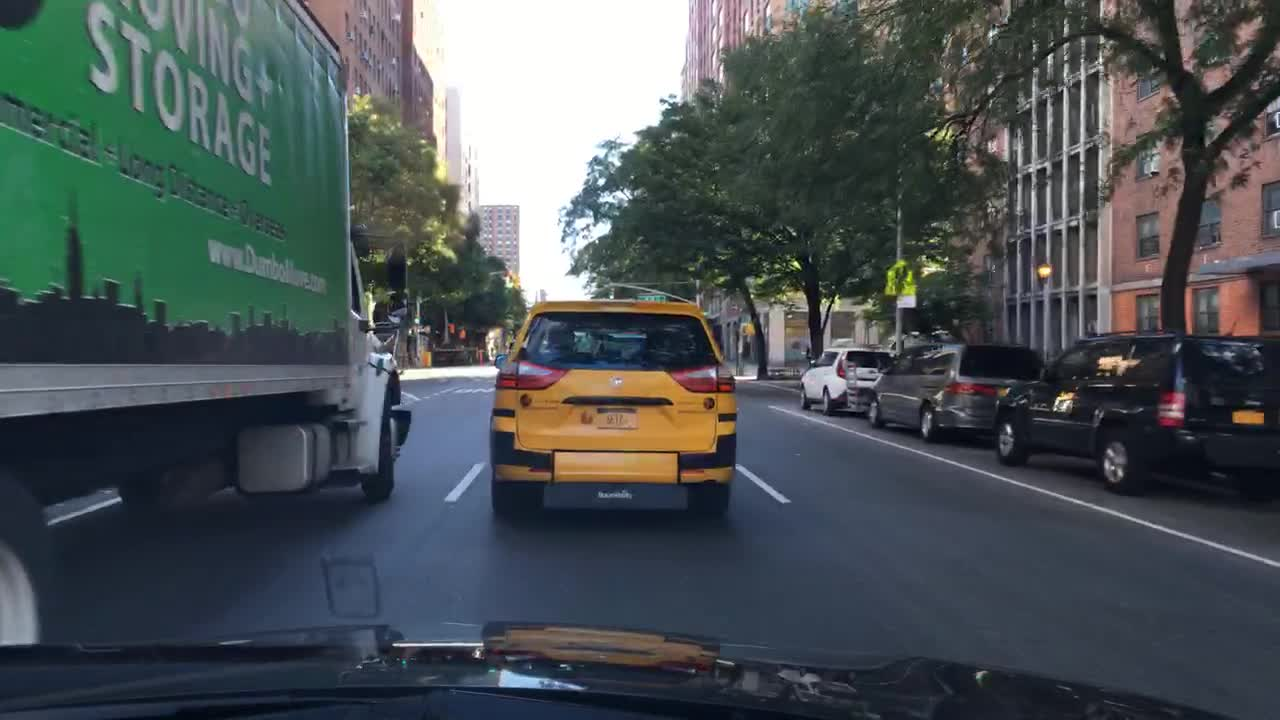car: (484, 296, 741, 520), (989, 328, 1278, 501), (865, 340, 1043, 444), (796, 341, 899, 417)
traffic light: (406, 326, 417, 339), (413, 313, 421, 325)
traffic sign: (883, 258, 917, 295), (895, 292, 918, 309), (635, 291, 664, 302), (744, 322, 757, 337), (416, 325, 427, 334)
truck: (0, 0, 416, 648)
